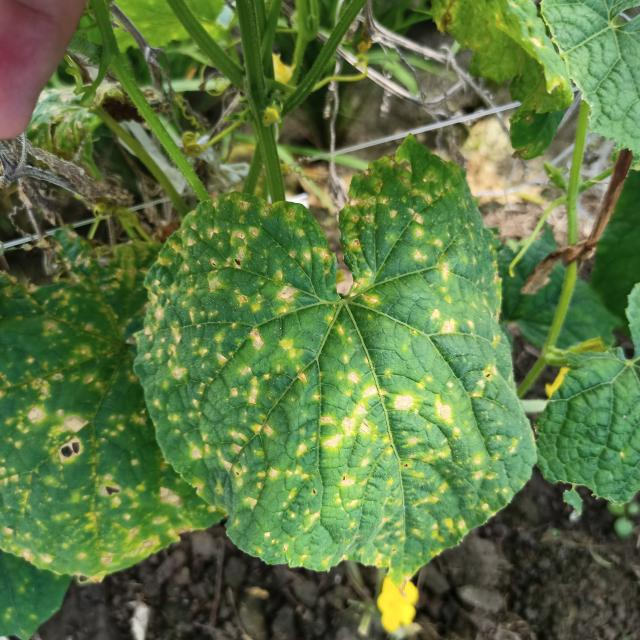disease_cucumber: (150, 156, 522, 560), (0, 253, 207, 580)
